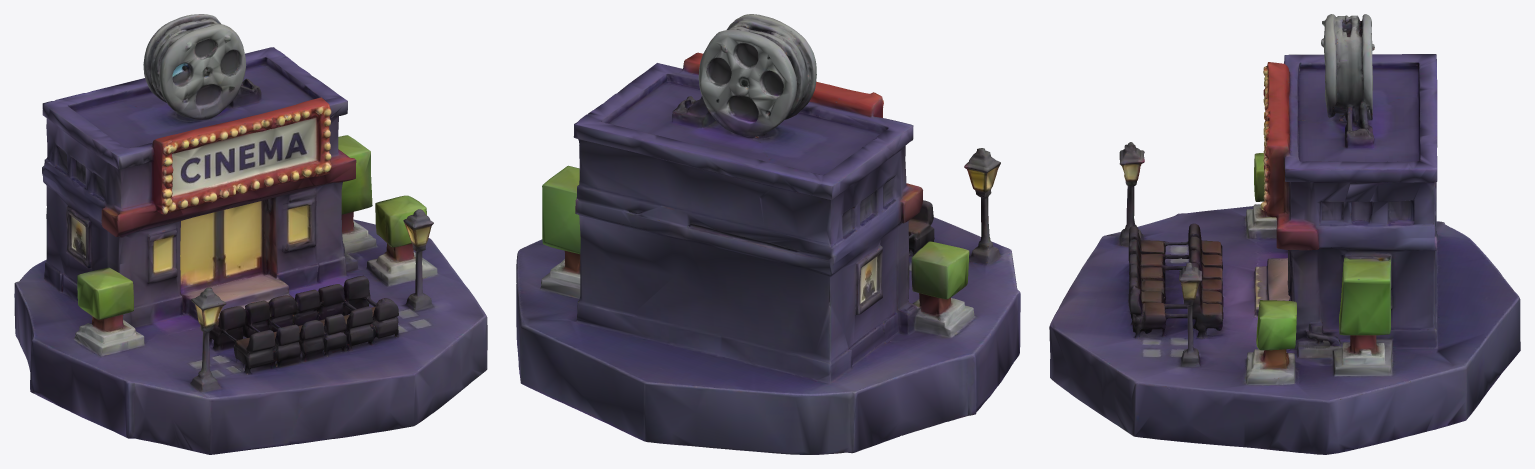
The model's file is cinema.glb.
The picture shows the model from 3 angles, left to right: view 1: azimuth 30°, elevation 25°; view 2: azimuth 150°, elevation 25°; view 3: azimuth 270°, elevation 25°; orthographic projection. The views are drawn at different scales.
Bounding box in the file's own units: 2 × 1.64 × 1.97.
1 material, 1 textured.
